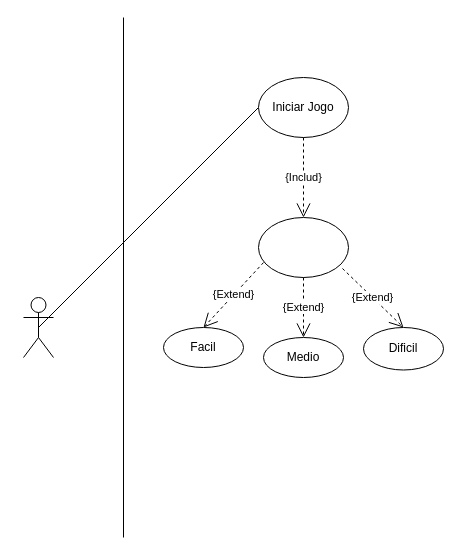
Image size: 461x556. Some labels were removed from this diagram. Each missing label, with the box of its shape:
Dificuldade: (258, 216, 348, 278)
Jogador: (22, 296, 54, 358)
